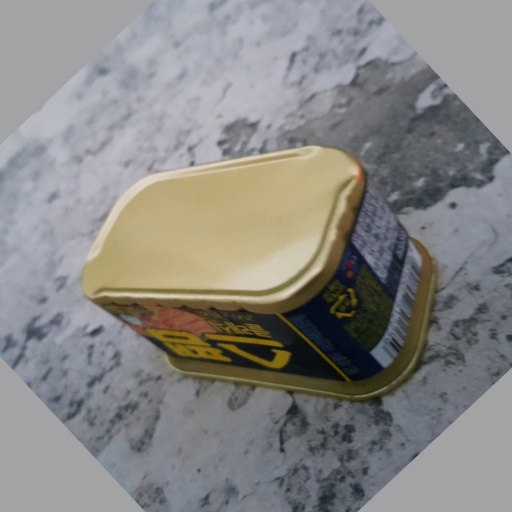Metal_2: (82, 144, 440, 404)
